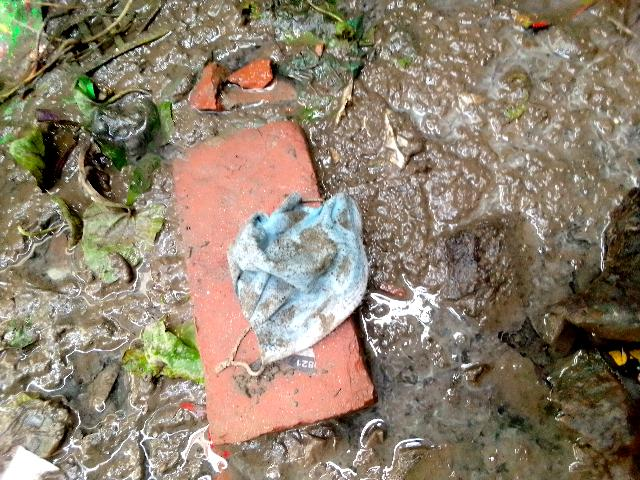mask: (228, 186, 354, 333)
